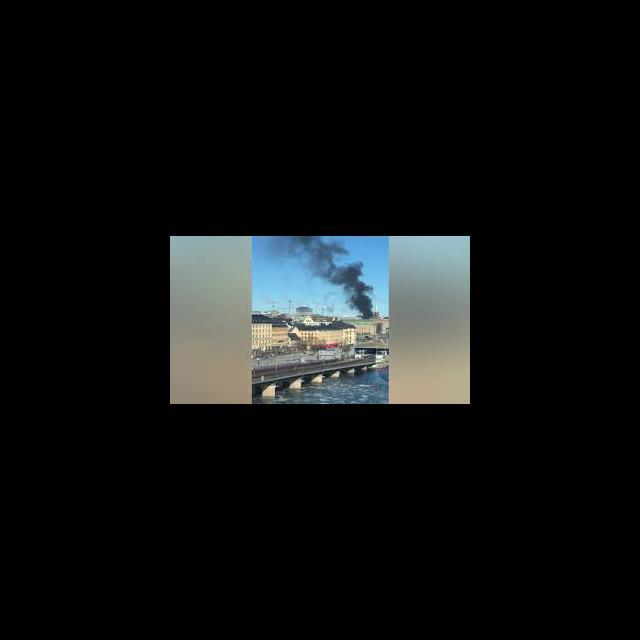Smoke: (271, 236, 334, 279), (336, 259, 374, 314)
